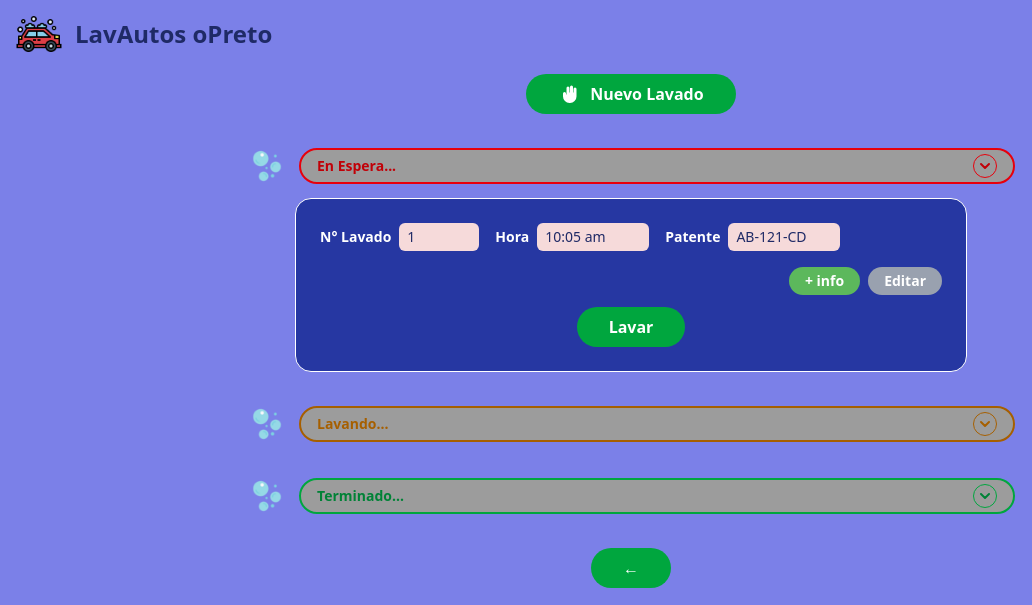
it: LavadosPage › contrae y expande una seccion
Expected: the field showing "1" is shown, [399,223,479,251]
Click the button named "Contraer En Espera...".
click(985, 166)  # box [973,154,997,178]
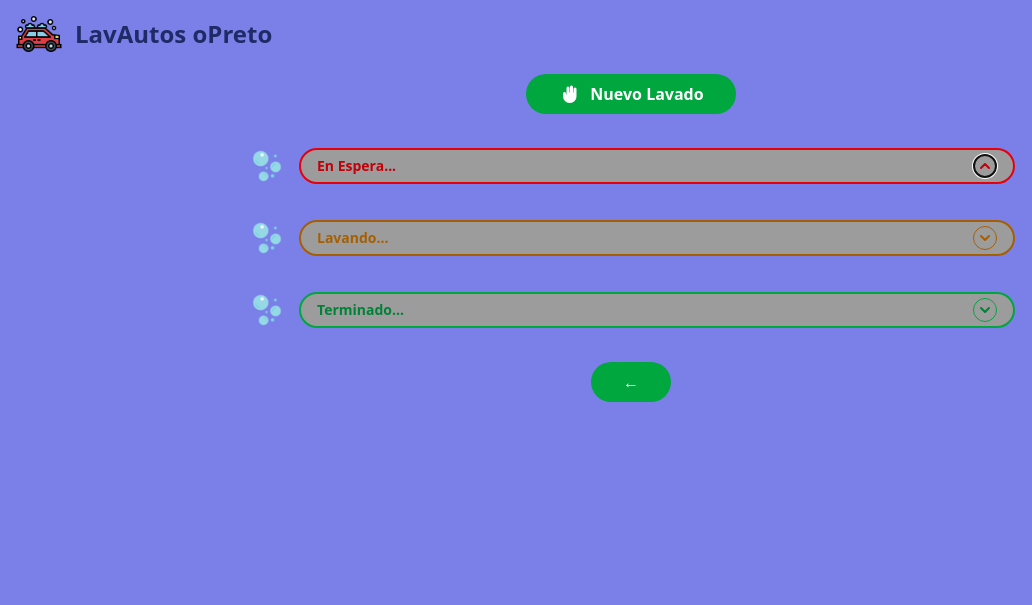
Expected: the field showing "1" is not shown
Click the button named "Expandir En Espera...".
click(985, 166)  # box [973,154,997,178]
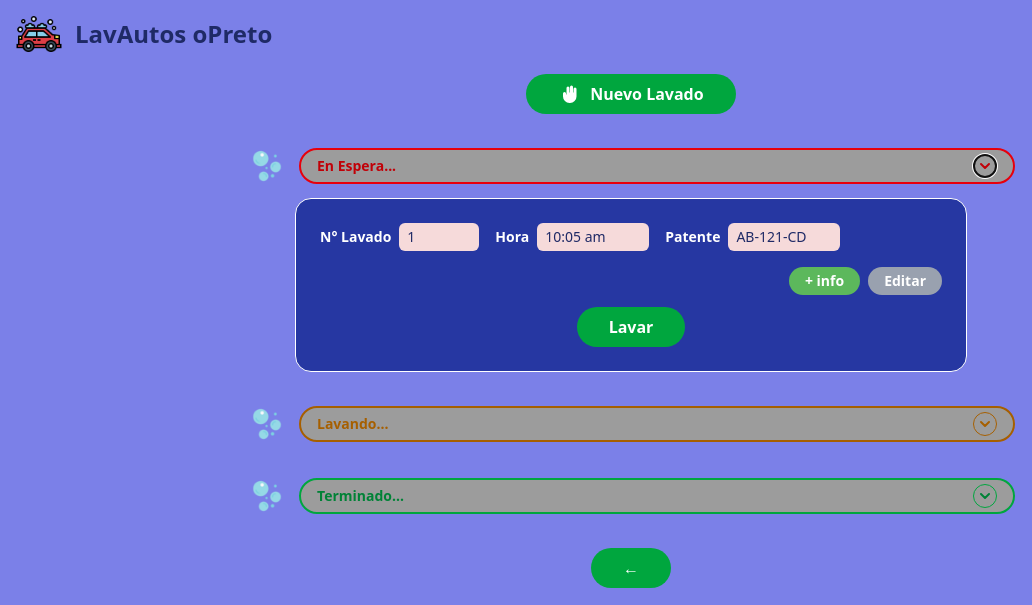
Expected: the field showing "1" is shown, [399,223,479,251]
